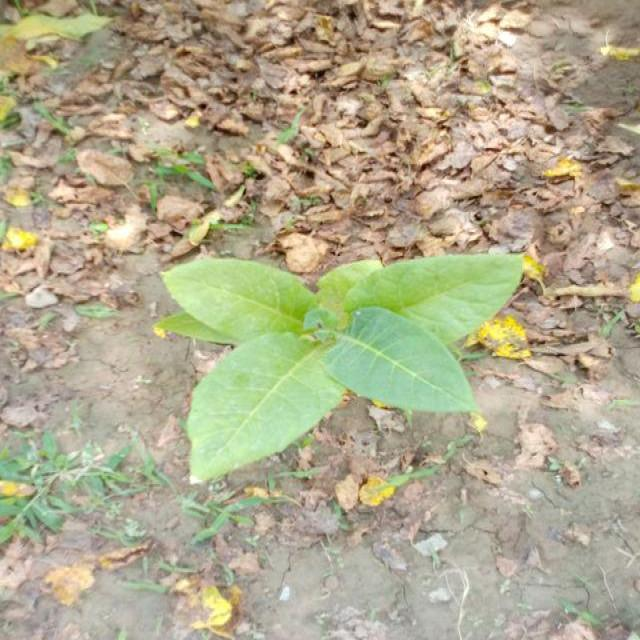crop: (154, 248, 528, 486)
